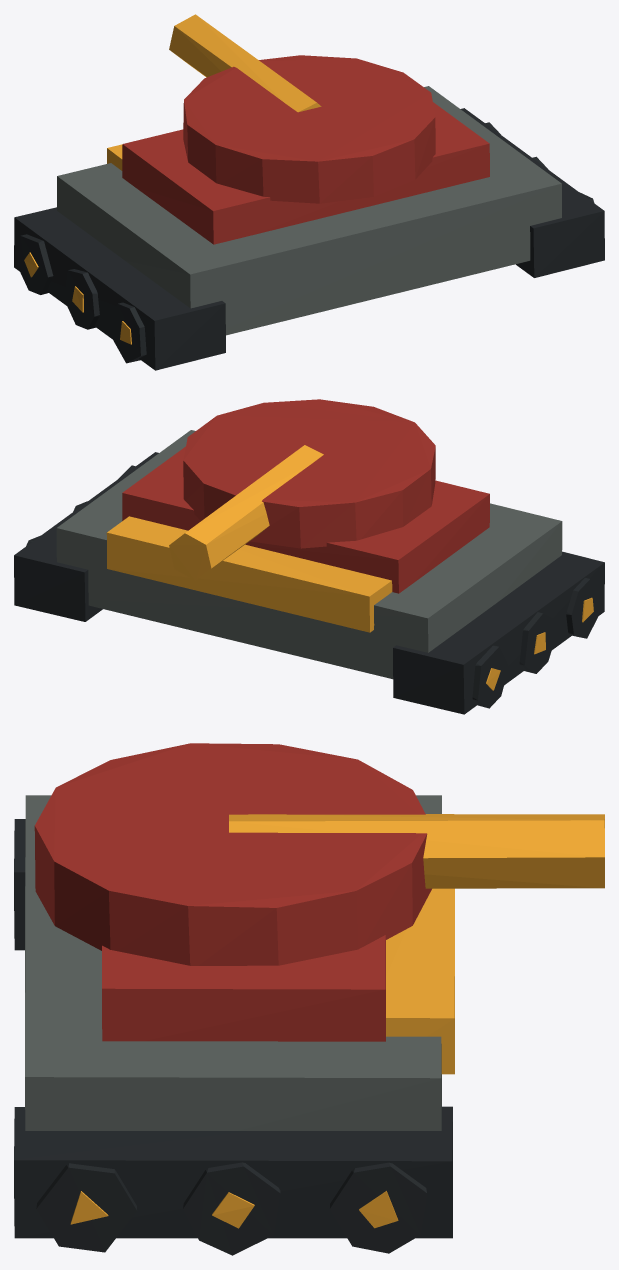
Rendered from SM_Soviet_SU_GranitMBT_LOD3.fbx.
3 views of the same model, one above another, from view 1: azimuth 30°, elevation 25°; view 2: azimuth 150°, elevation 25°; view 3: azimuth 270°, elevation 25° (orthographic). The views are drawn at different scales.
Visible parts, largest first — view 1: LOD03_SM_Soviet_SU_GranitMBT; view 2: LOD03_SM_Soviet_SU_GranitMBT; view 3: LOD03_SM_Soviet_SU_GranitMBT.
Part boxes in pixels (box(x1,y1,x2,y2)): LOD03_SM_Soviet_SU_GranitMBT: box(14, 14, 604, 370); LOD03_SM_Soviet_SU_GranitMBT: box(14, 399, 604, 714); LOD03_SM_Soviet_SU_GranitMBT: box(14, 743, 604, 1255).
Size of the model in its own units: 525 by 372 by 184.
